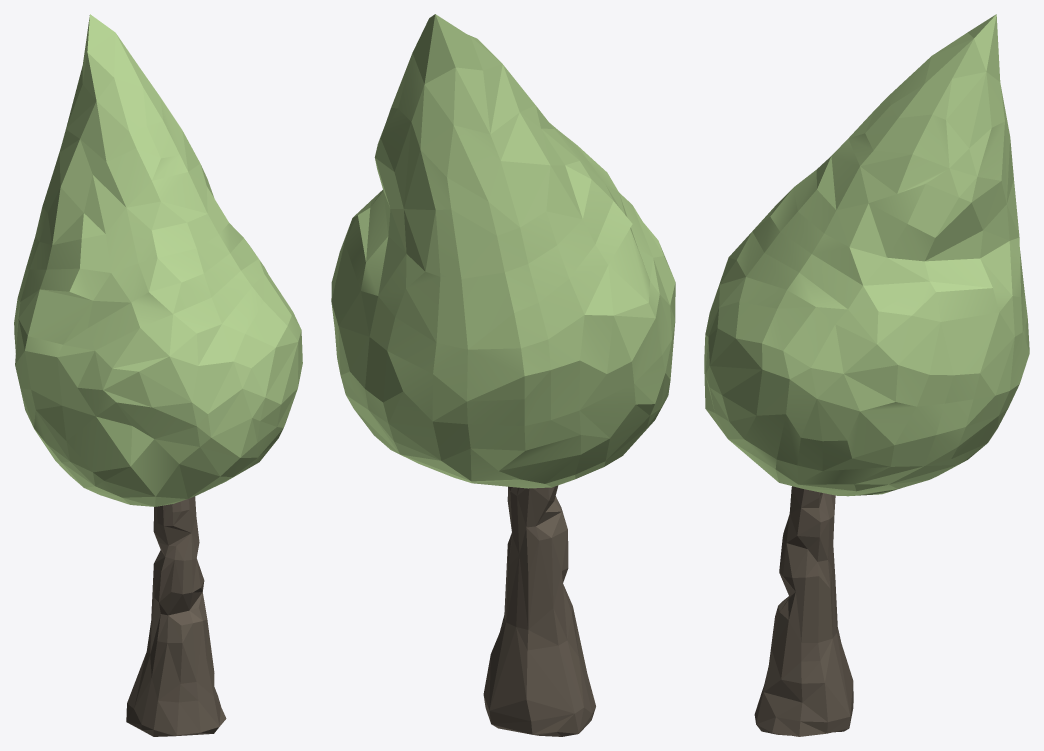
File: Tree_1.fbx
The picture shows the model from 3 angles, left to right: view 1: azimuth 30°, elevation 25°; view 2: azimuth 150°, elevation 25°; view 3: azimuth 270°, elevation 25°; orthographic projection. The views are drawn at different scales.
Parts seen in each view (by area): view 1: pCone2; view 2: pCone2; view 3: pCone2.
Boxes of the visible parts, <box> form: pCone2: <box>14,14,302,736</box>; pCone2: <box>331,14,675,736</box>; pCone2: <box>704,14,1029,736</box>.
Size of the model in its own units: 259 by 633 by 264.
